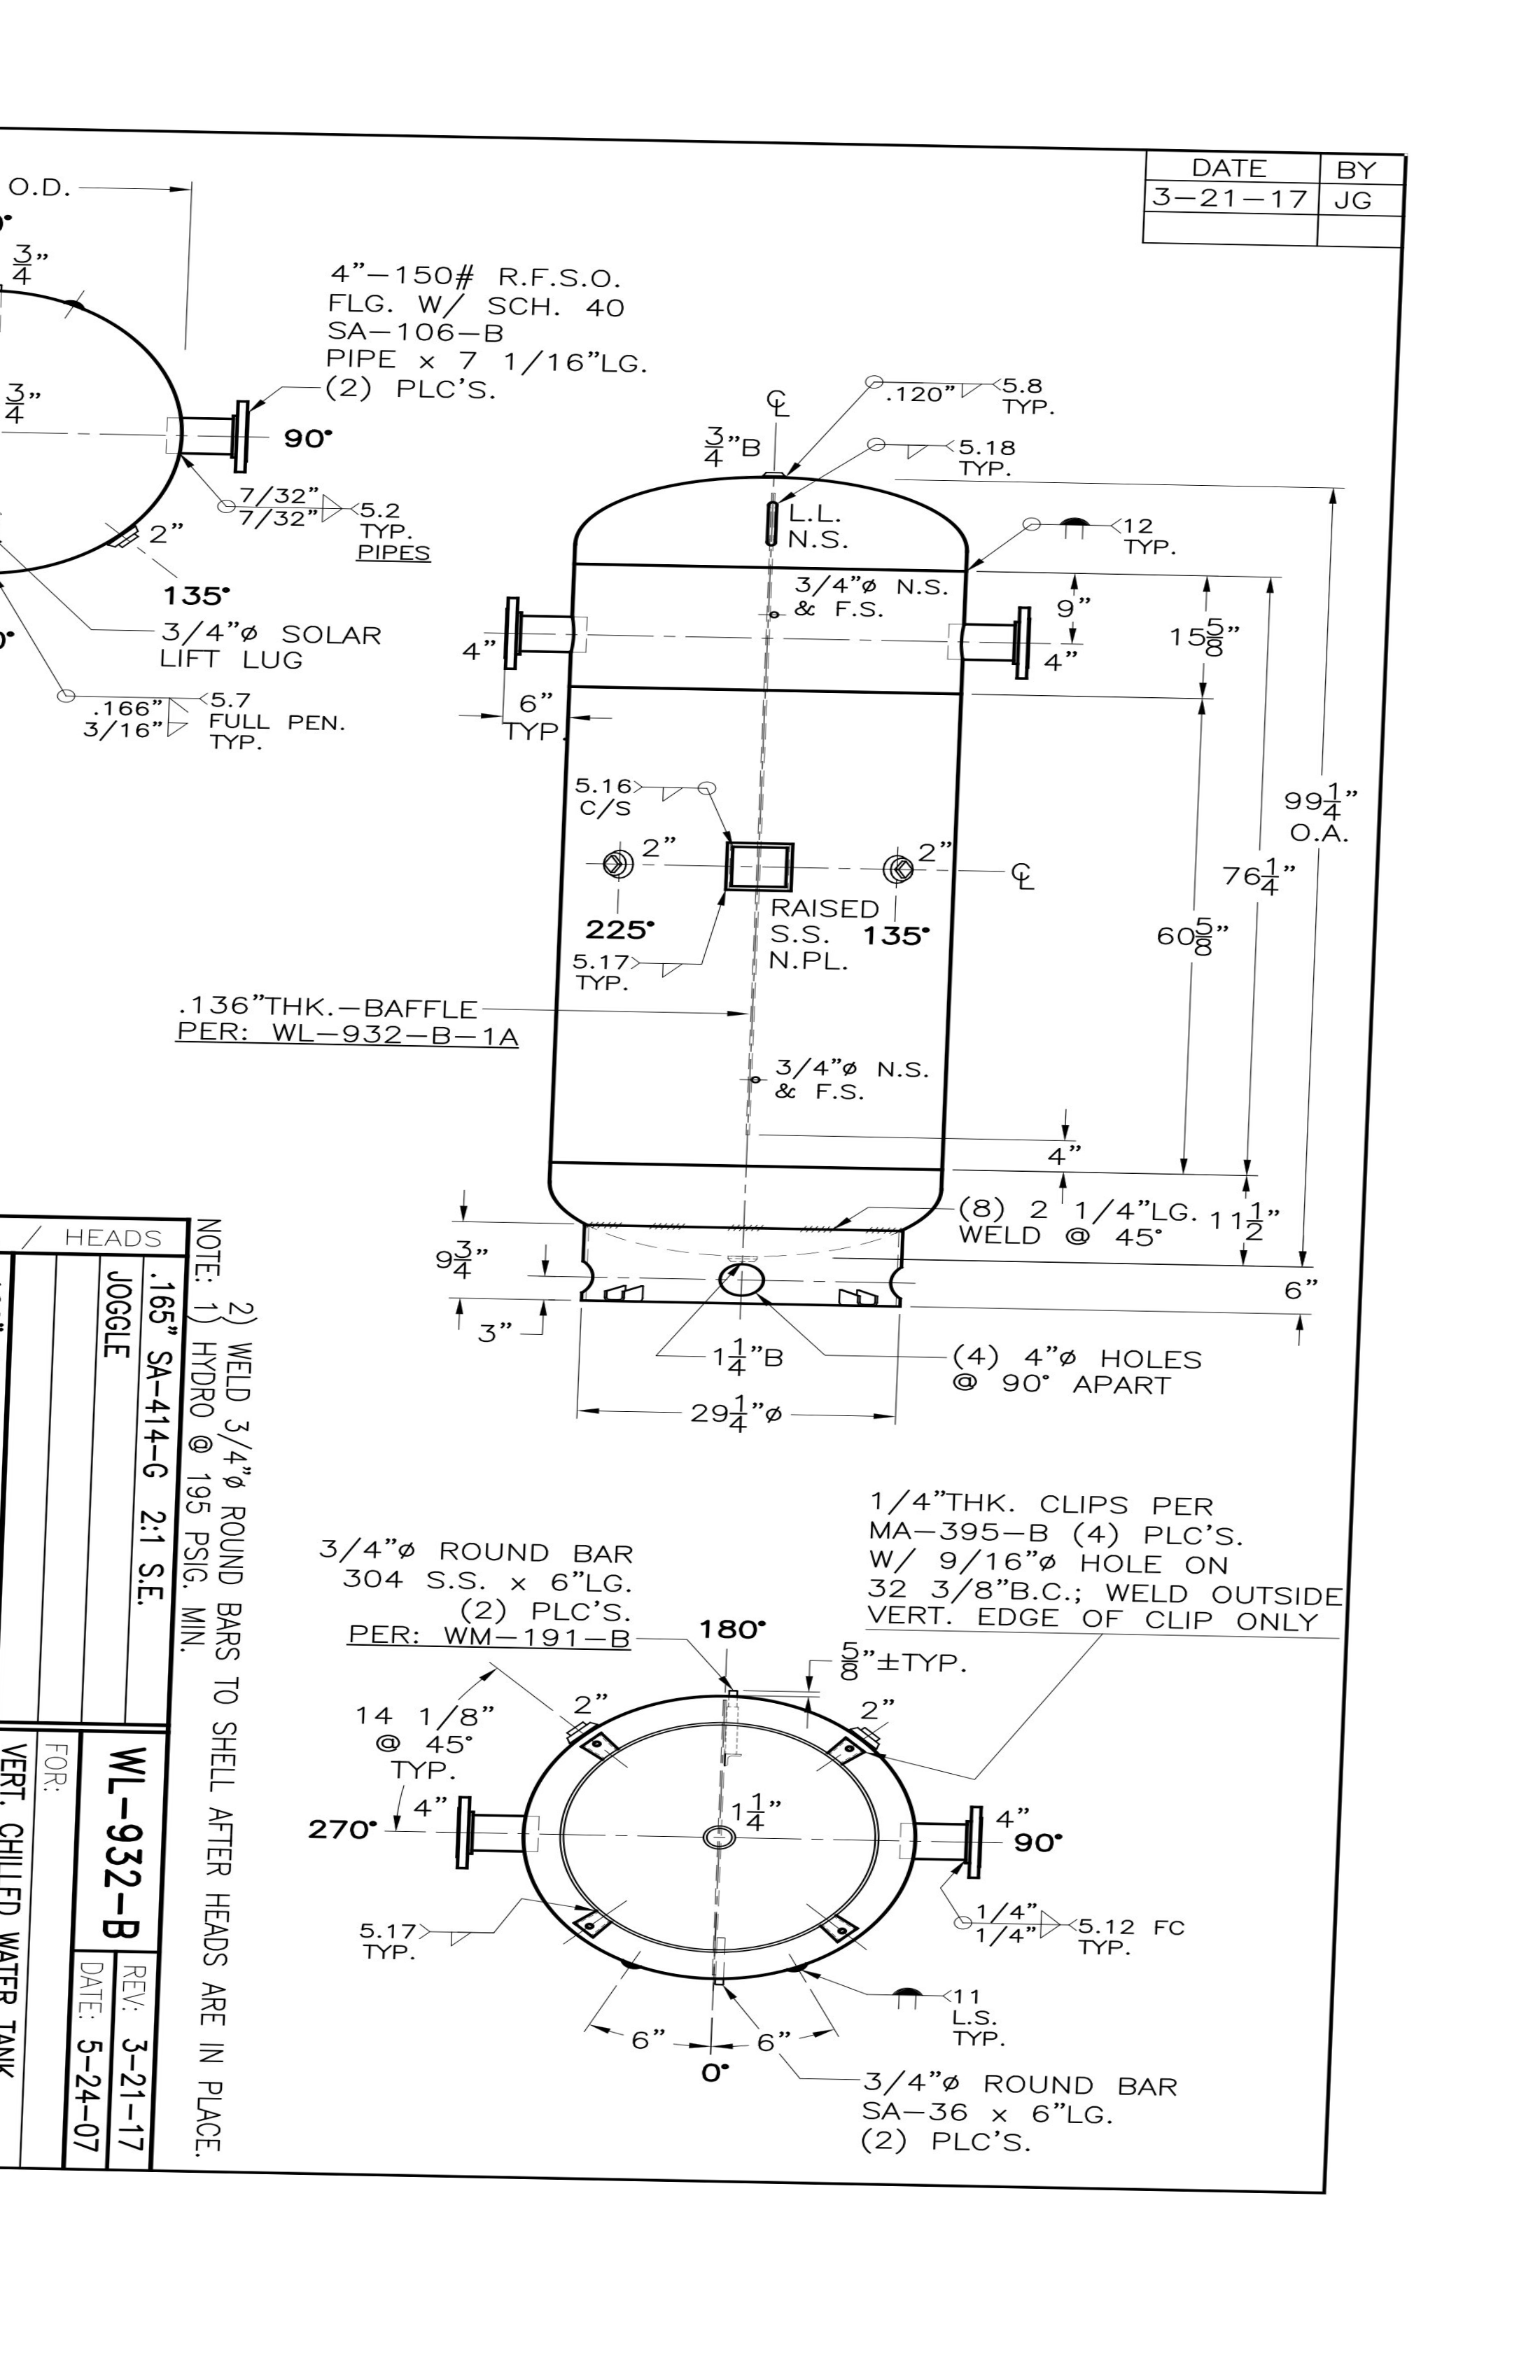Nozzle: (883, 1787, 1018, 1908), (477, 548, 590, 685), (437, 1762, 545, 1903), (156, 385, 269, 501), (947, 588, 1058, 701)
